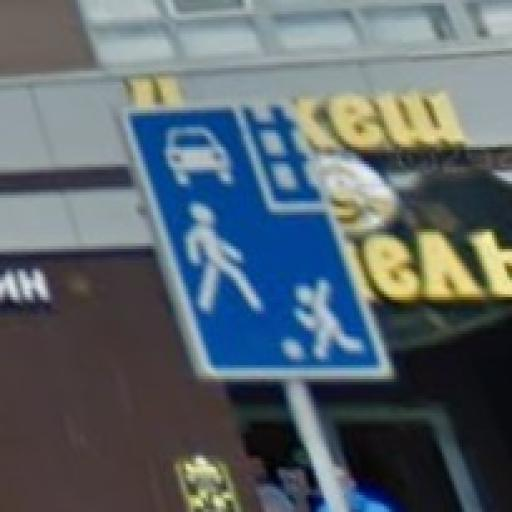traffic_sign: (122, 100, 398, 386)
